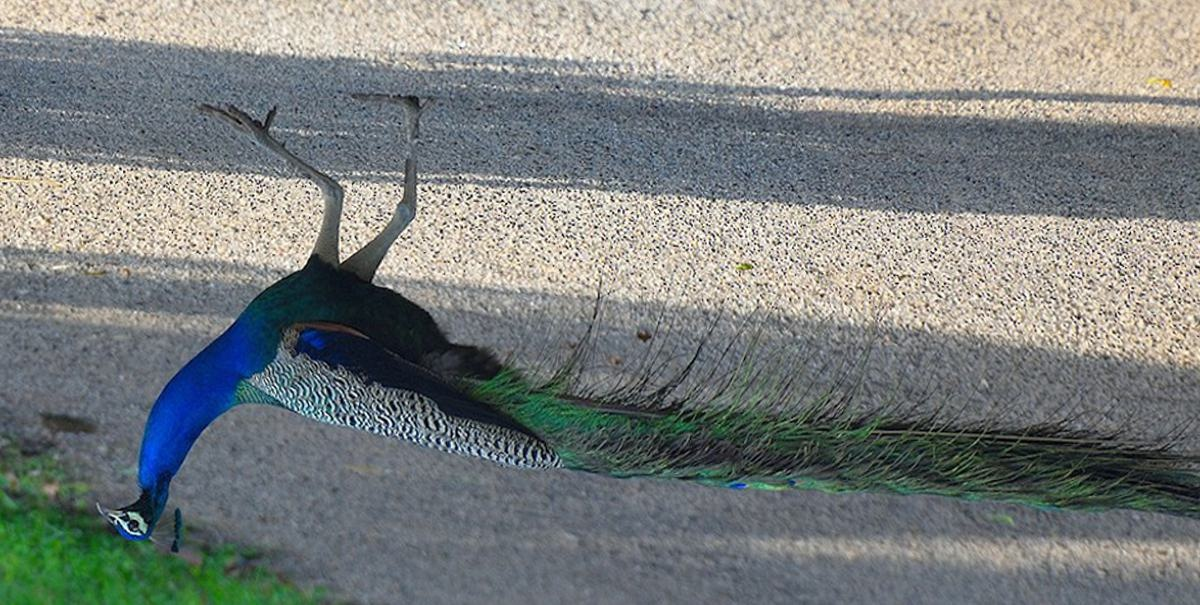peacock: (91, 227, 1200, 560)
